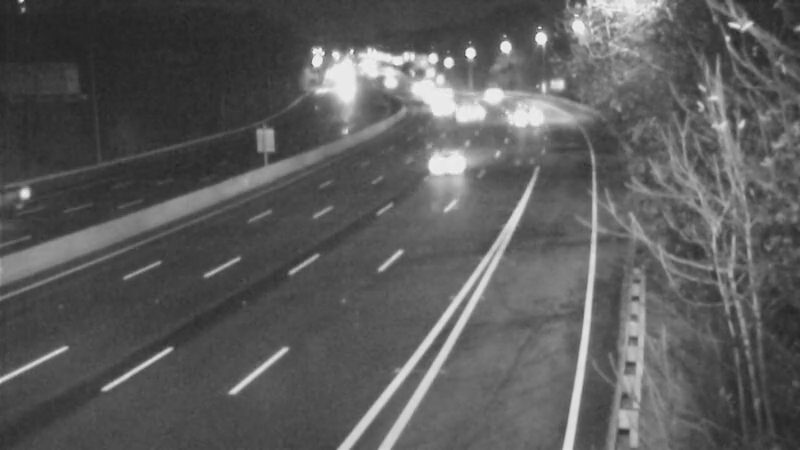vehicle: (411, 112, 491, 192), (1, 155, 70, 235), (467, 67, 517, 117), (438, 89, 488, 139), (490, 89, 540, 139)
